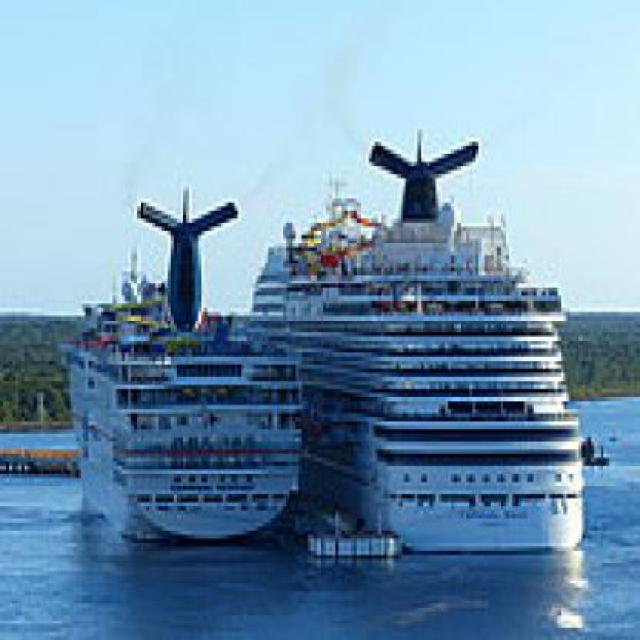cruise: (245, 114, 599, 565), (68, 163, 319, 557)
